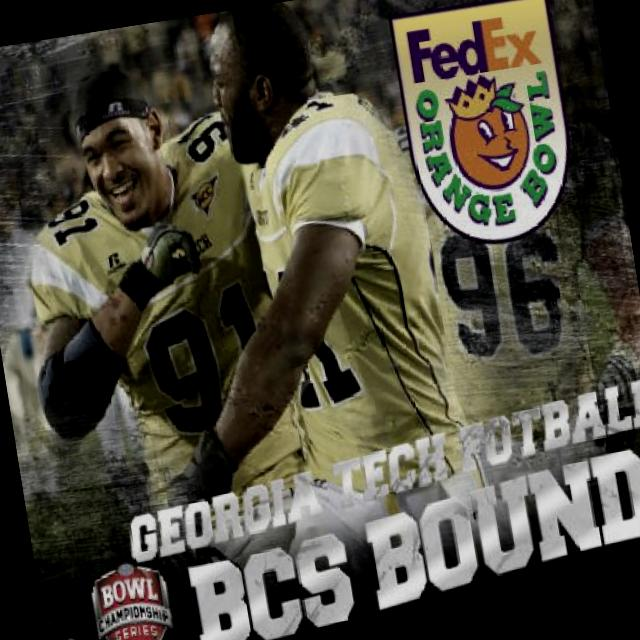Person: (62, 0, 500, 614), (0, 39, 332, 628)
